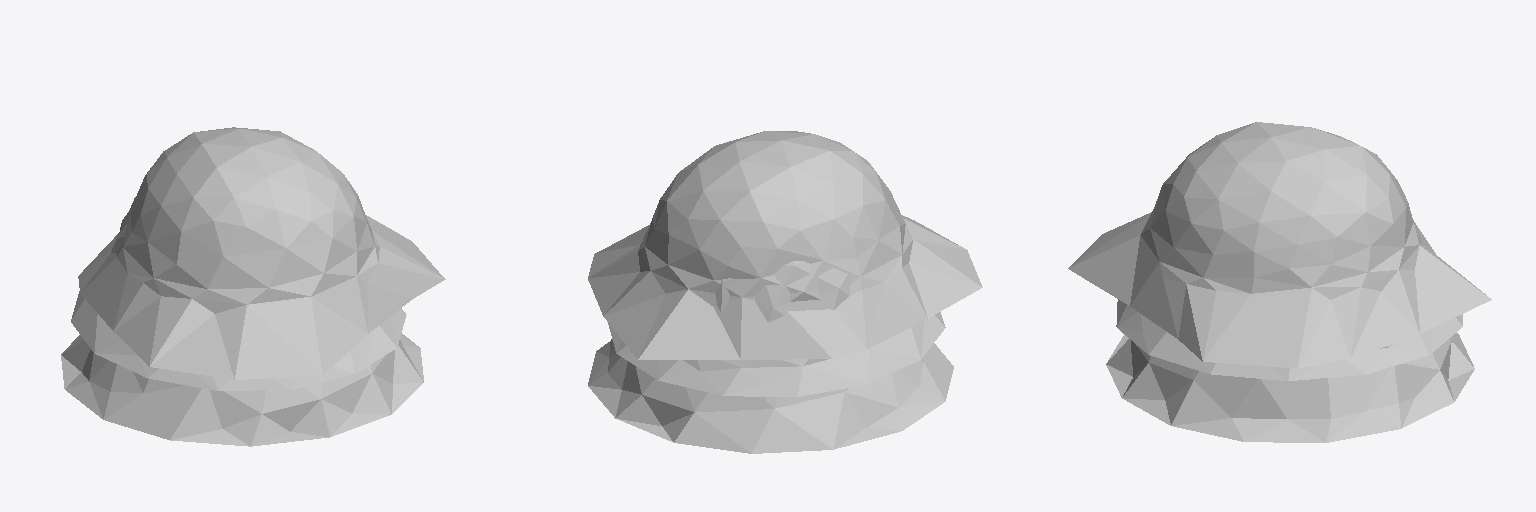
File: WOH_Asset_Bush.obj
3 views of the same model, side by side, from view 1: azimuth 30°, elevation 25°; view 2: azimuth 150°, elevation 25°; view 3: azimuth 270°, elevation 25° (orthographic).
Parts seen in each view (by area): view 1: WOH_Asset_Bush.001_Bushmk1.001; view 2: WOH_Asset_Bush.001_Bushmk1.001; view 3: WOH_Asset_Bush.001_Bushmk1.001.
Part boxes in pixels (x1,y1,x2,y2): WOH_Asset_Bush.001_Bushmk1.001: (61,127,445,446); WOH_Asset_Bush.001_Bushmk1.001: (588,131,982,453); WOH_Asset_Bush.001_Bushmk1.001: (1068,122,1491,442).
Size of the model in its own units: 7.4 by 4.91 by 8.24.